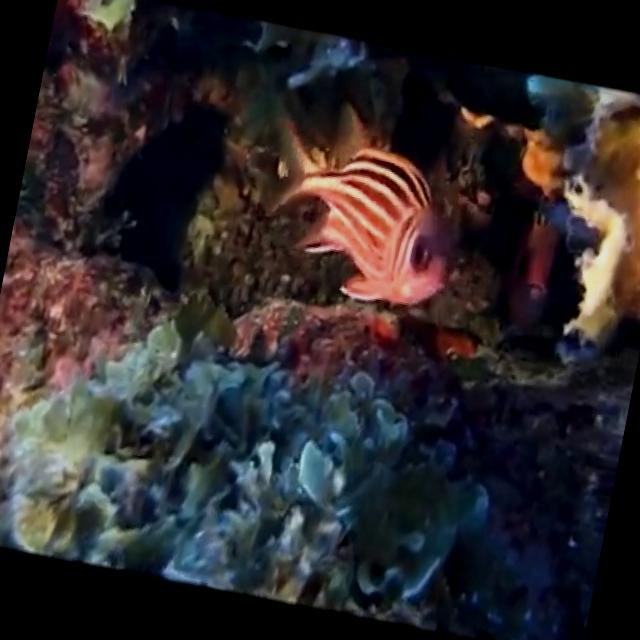Asker Baligi: (253, 122, 475, 318)
